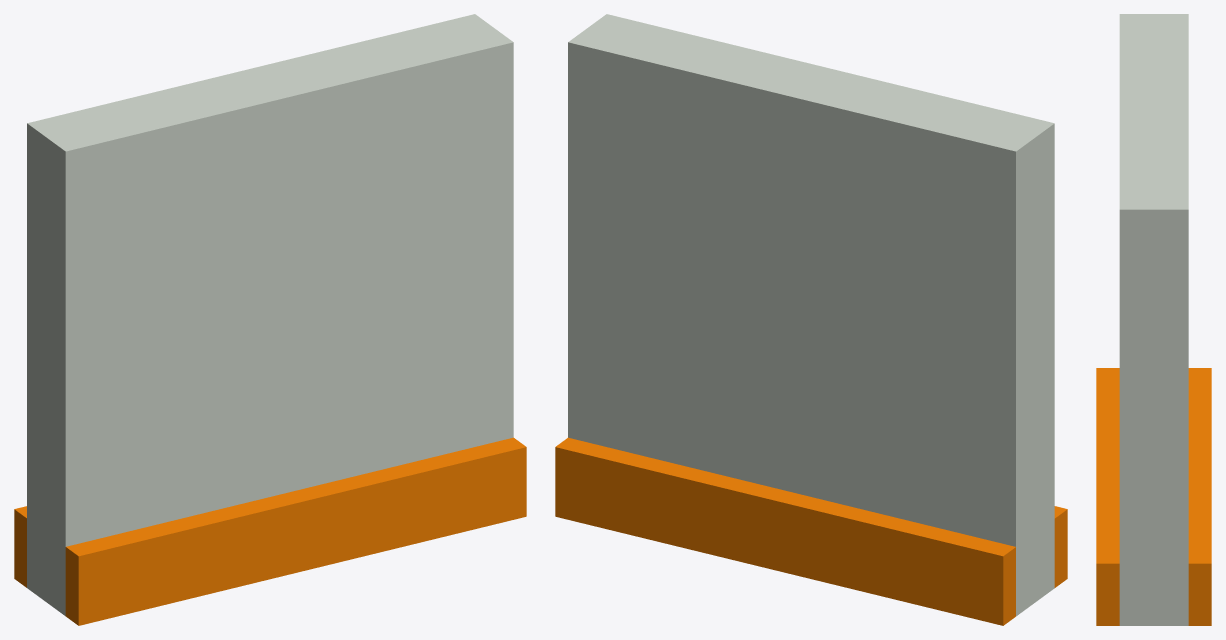
File: GYM Main HalfWall.fbx
The picture shows the model from 3 angles, left to right: view 1: azimuth 30°, elevation 25°; view 2: azimuth 150°, elevation 25°; view 3: azimuth 270°, elevation 25°; orthographic projection. The views are drawn at different scales.
Visible parts, largest first — view 1: Main Half Wall Tile Lv1; view 2: Main Half Wall Tile Lv1; view 3: Main Half Wall Tile Lv1.
Boxes of the visible parts, x1=… form: Main Half Wall Tile Lv1: x1=14, y1=14, x2=526, y2=625; Main Half Wall Tile Lv1: x1=555, y1=14, x2=1067, y2=625; Main Half Wall Tile Lv1: x1=1096, y1=14, x2=1211, y2=625.
Bounding box in the file's own units: 200 × 198 × 49.86.
